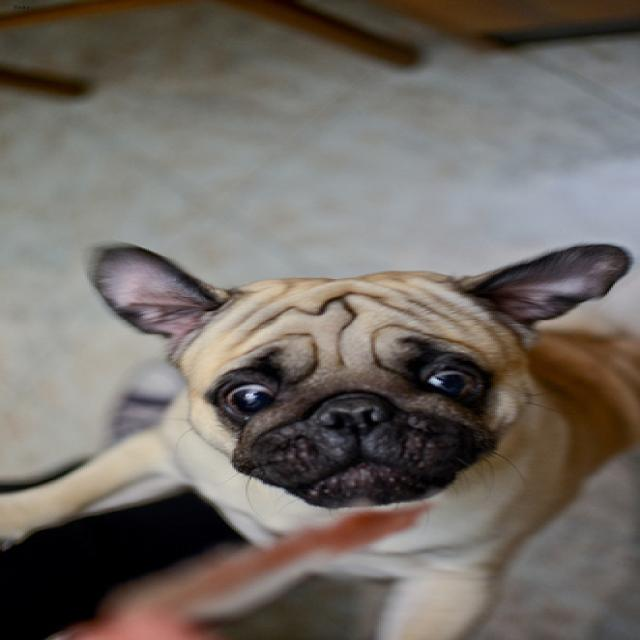dog-pug: (2, 234, 636, 637)
